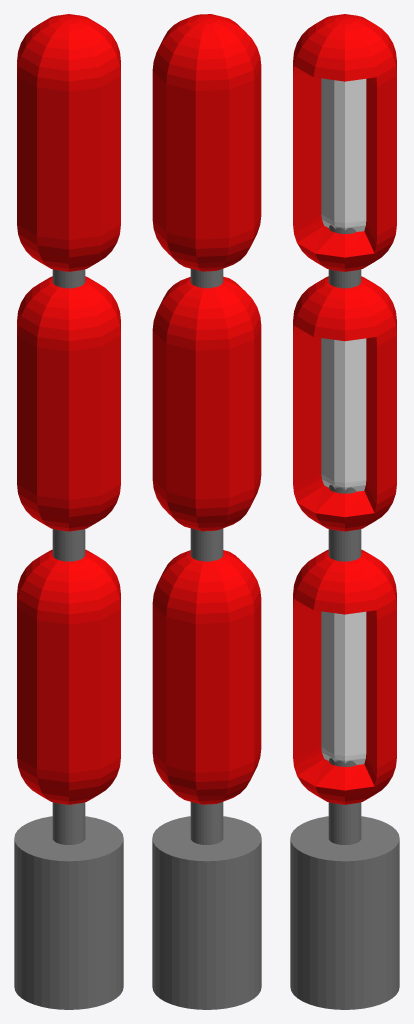
File: lampione.obj
3 views of the same model, side by side, from view 1: azimuth 90°, elevation 25°; view 2: azimuth 150°, elevation 25°; view 3: azimuth 270°, elevation 25° (orthographic).
Visible parts, largest first — view 1: Object.3, Object.1, Object.2, Object.5, Object.4; view 2: Object.3, Object.2, Object.1, Object.5, Object.4; view 3: Object.3, Object.1, Object.2, Object.5, Object.4.
Boxes of the visible parts, left/top/right/bottom form: Object.3: left=17, top=14, right=120, bottom=271; Object.1: left=17, top=549, right=120, bottom=804; Object.2: left=17, top=276, right=120, bottom=531; Object.5: left=14, top=816, right=123, bottom=1009; Object.4: left=52, top=269, right=85, bottom=844; Object.3: left=152, top=14, right=261, bottom=271; Object.2: left=152, top=276, right=261, bottom=531; Object.1: left=152, top=550, right=261, bottom=804; Object.5: left=152, top=816, right=261, bottom=1009; Object.4: left=190, top=269, right=223, bottom=844; Object.3: left=293, top=14, right=396, bottom=271; Object.1: left=293, top=549, right=396, bottom=804; Object.2: left=293, top=276, right=396, bottom=531; Object.5: left=290, top=816, right=399, bottom=1009; Object.4: left=328, top=225, right=361, bottom=844.
Size of the model in its own units: 0.54 by 5.27 by 0.54.
